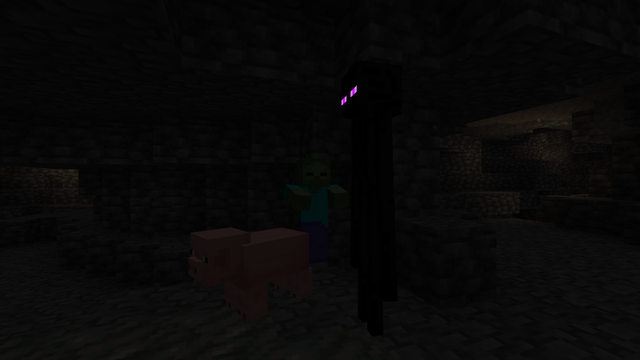cochons: (230, 225, 307, 323)
endermens: (334, 47, 409, 347)
zombies: (293, 160, 327, 272)
